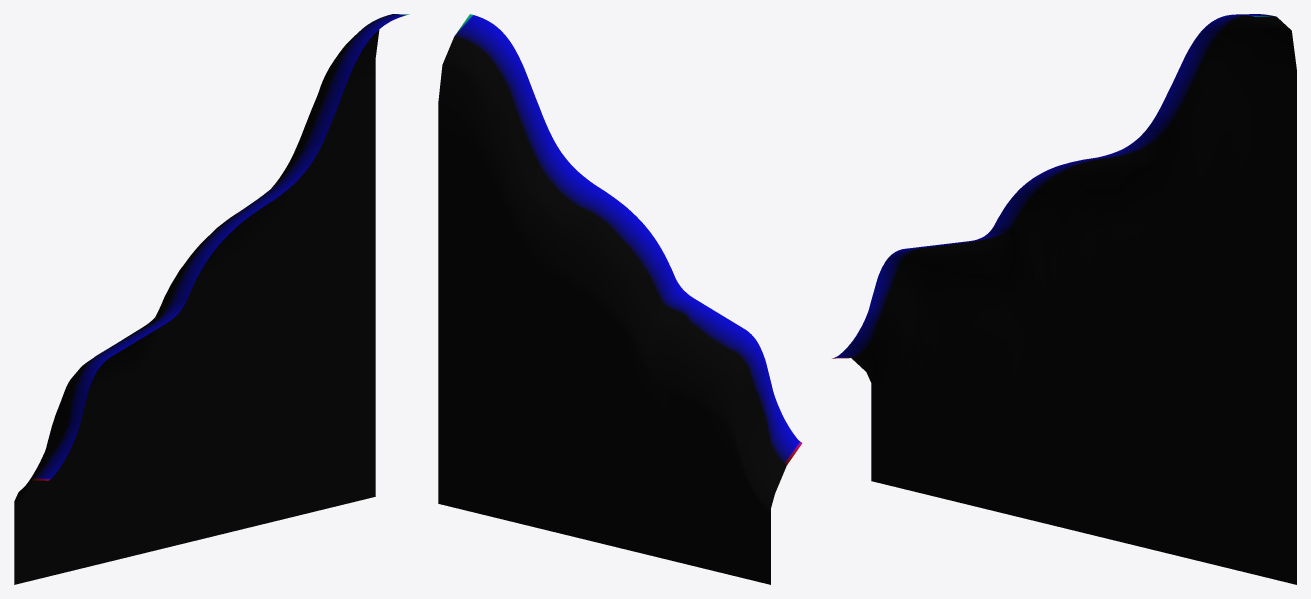
File: 3DSlope01.fbx
3 views of the same model, side by side, from view 1: azimuth 30°, elevation 25°; view 2: azimuth 150°, elevation 25°; view 3: azimuth 330°, elevation 25° (orthographic). The views are drawn at different scales.
Visible parts, largest first — view 1: Slope01; view 2: Slope01; view 3: Slope01.
Boxes of the visible parts, x1=… form: Slope01: x1=14, y1=14, x2=409, y2=584; Slope01: x1=438, y1=14, x2=802, y2=584; Slope01: x1=832, y1=14, x2=1296, y2=584.
Bounding box in the file's own units: 4739 × 6357 × 790.
